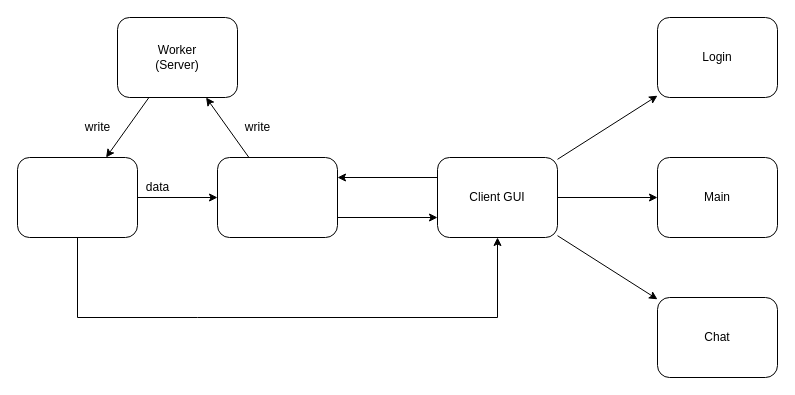
Some shapes in this 795 by 395 pixel diagram are drawn without their labels. The shapes that lost their labels are listed below. From the top down, each one's box as (x1, y1, x2, y2) in pixels, then its label:
(16, 156, 138, 238): WorkerClient
(216, 156, 338, 238): BUS
